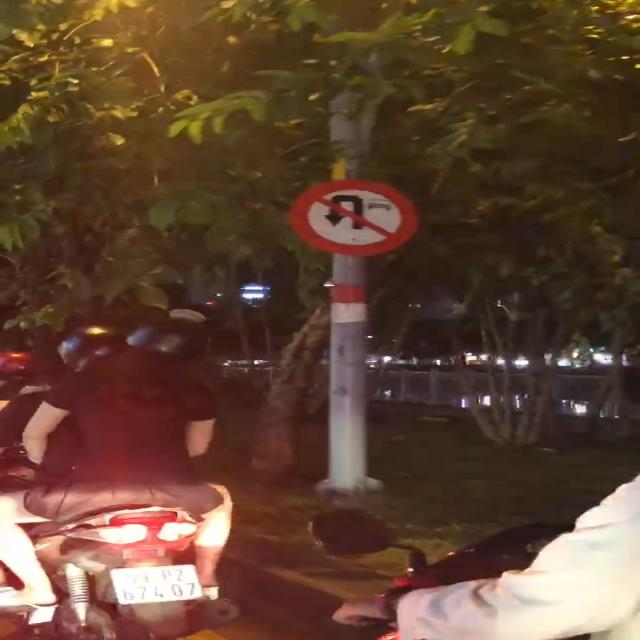Bien bao cam quay dau xe: (294, 178, 419, 254)
